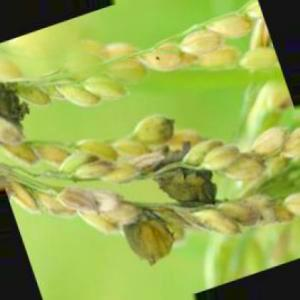Leaf_Scald: (158, 163, 220, 216), (2, 84, 28, 126)
